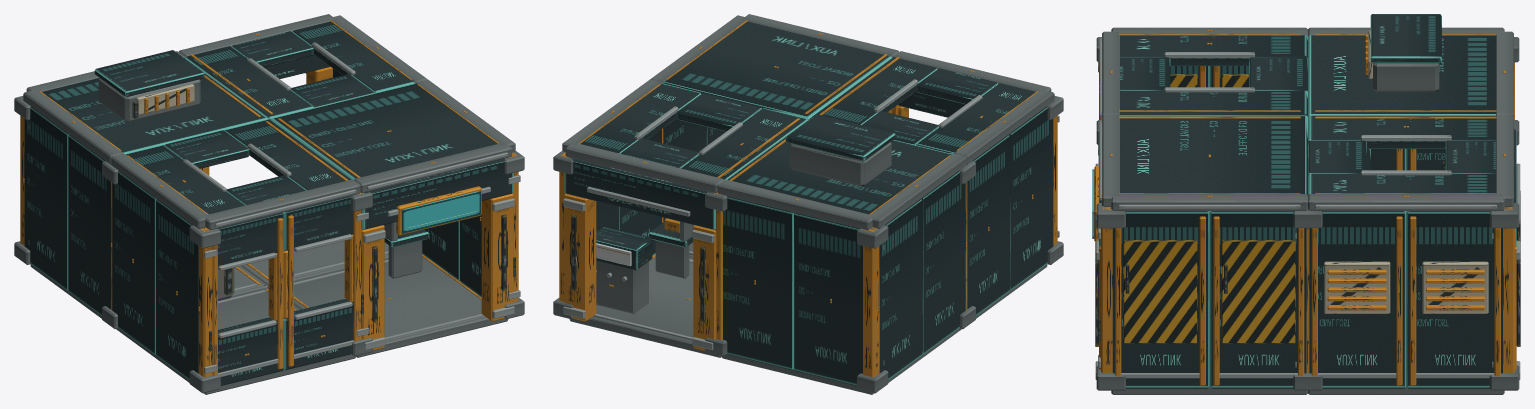
File: CargoDepot_Intact_LOD0.obj
The picture shows the model from 3 angles, left to right: view 1: azimuth 30°, elevation 25°; view 2: azimuth 150°, elevation 25°; view 3: azimuth 270°, elevation 25°; orthographic projection. The views are drawn at different scales.
Parts seen in each view (by area): view 1: 005_roof_4m, 007_roof_skylight_4m, 019_doorframe_4m, 001_roof_skylight_4m, 017_wall_window_2m, 016_wall_window_2m, 004_floor_4m, 003_roof_4m, 025_wall_vent_2m, 022_wall_solid_2m, 024_wall_vent_2m, 021_wall_solid_2m (+23 smaller); view 2: 005_roof_4m, 030_doorframe_4m, 028_wall_solid_2m.004, 027_wall_solid_2m, 007_roof_skylight_4m, 001_roof_skylight_4m, 021_wall_solid_2m, 003_roof_4m, 024_wall_vent_2m, 022_wall_solid_2m, 025_wall_vent_2m, 039_hvac_unit (+21 smaller); view 3: 035_wall_vent_2m, 033_wall_solid_2m, 032_wall_solid_2m, 036_wall_vent_2m, 005_roof_4m, 001_roof_skylight_4m, 007_roof_skylight_4m, 003_roof_4m, 039_hvac_unit, 034_beam_4m, 037_beam_4m, 013_column_4m.004 (+17 smaller).
Part boxes in pixels (box(x1,y1,x2,y2)): 005_roof_4m: box(270, 83, 499, 180); 007_roof_skylight_4m: box(185, 20, 414, 119); 019_doorframe_4m: box(361, 158, 514, 350); 001_roof_skylight_4m: box(125, 119, 350, 214); 017_wall_window_2m: box(283, 196, 359, 370); 016_wall_window_2m: box(212, 212, 283, 385); 004_floor_4m: box(294, 254, 508, 357); 003_roof_4m: box(39, 57, 268, 153); 025_wall_vent_2m: box(24, 106, 68, 290); 022_wall_solid_2m: box(112, 170, 156, 355); 024_wall_vent_2m: box(68, 134, 111, 315); 021_wall_solid_2m: box(156, 199, 198, 379); 005_roof_4m: box(663, 20, 892, 119); 030_doorframe_4m: box(563, 157, 716, 350); 028_wall_solid_2m.004: box(723, 196, 794, 370); 027_wall_solid_2m: box(794, 212, 862, 385); 007_roof_skylight_4m: box(578, 83, 807, 180); 001_roof_skylight_4m: box(809, 57, 1038, 153); 021_wall_solid_2m: box(1009, 106, 1053, 290); 003_roof_4m: box(727, 119, 952, 214); 024_wall_vent_2m: box(921, 170, 965, 355); 022_wall_solid_2m: box(966, 134, 1009, 315); 025_wall_vent_2m: box(879, 199, 921, 379); 039_hvac_unit: box(785, 114, 895, 186); 035_wall_vent_2m: box(1309, 211, 1406, 388); 033_wall_solid_2m: box(1209, 211, 1306, 388); 032_wall_solid_2m: box(1112, 211, 1209, 388); 036_wall_vent_2m: box(1406, 211, 1503, 388); 005_roof_4m: box(1119, 115, 1307, 194); 001_roof_skylight_4m: box(1119, 34, 1307, 116); 007_roof_skylight_4m: box(1308, 115, 1496, 194); 003_roof_4m: box(1308, 34, 1496, 116); 039_hvac_unit: box(1365, 14, 1441, 92); 034_beam_4m: box(1111, 194, 1307, 210); 037_beam_4m: box(1308, 194, 1504, 210); 013_column_4m.004: box(1096, 203, 1125, 390).
Size of the model in its own units: 8.62 by 5.3 by 8.72.
Materials: 1 (1 with a texture image).
